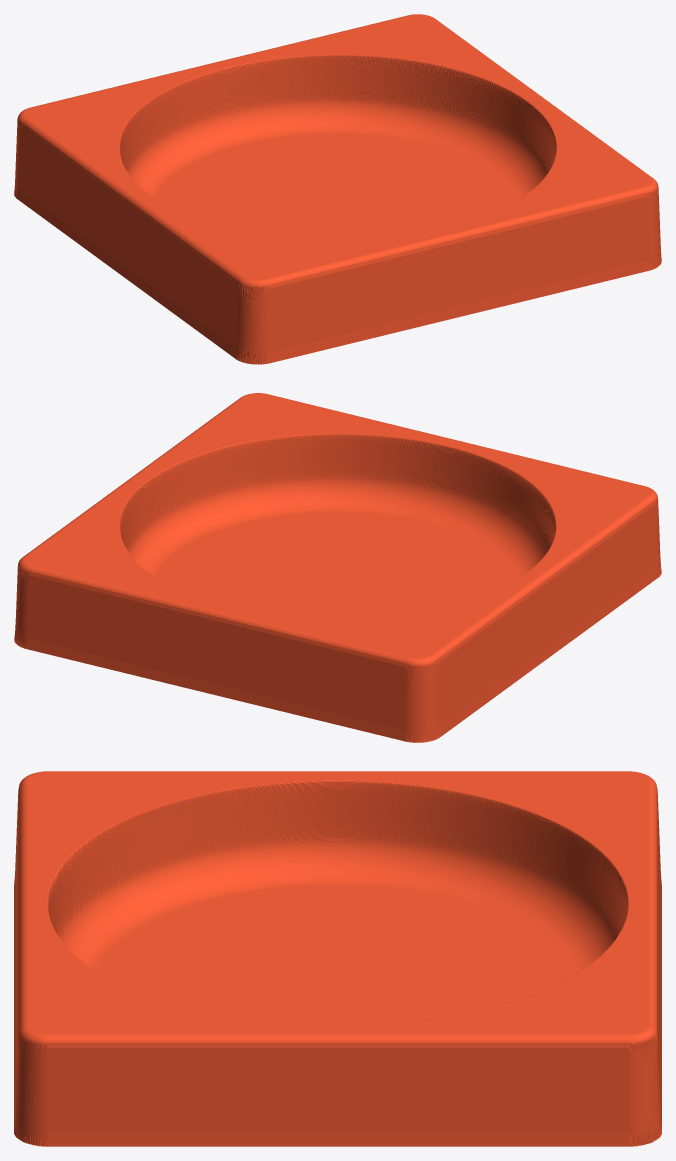
Rendered from mold.glb.
The picture shows the model from 3 angles, top to bottom: view 1: azimuth 30°, elevation 25°; view 2: azimuth 150°, elevation 25°; view 3: azimuth 270°, elevation 25°; orthographic projection. The views are drawn at different scales.
Parts seen in each view (by area): view 1: geometry_0; view 2: geometry_0; view 3: geometry_0.
Boxes of the visible parts, box(x1,y1,x2,y2) form: geometry_0: box(14, 14, 661, 364); geometry_0: box(14, 393, 661, 742); geometry_0: box(14, 771, 661, 1146).
Bounding box in the file's own units: 0.1709 × 0.031 × 0.1709.
